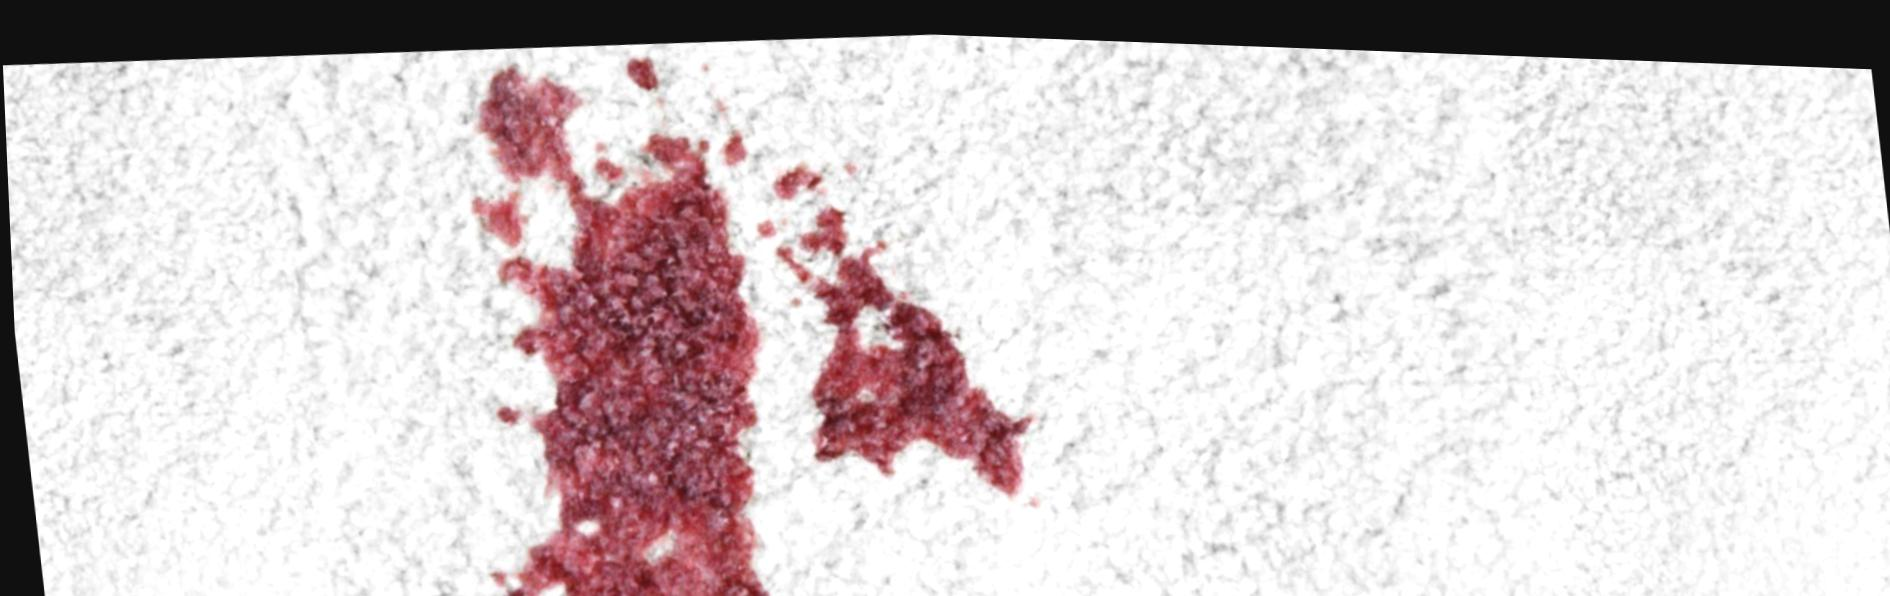Fire: (476, 59, 770, 596), (774, 198, 1033, 490), (468, 186, 527, 244), (770, 157, 822, 194), (720, 122, 747, 162), (593, 151, 623, 179), (492, 402, 518, 423)
